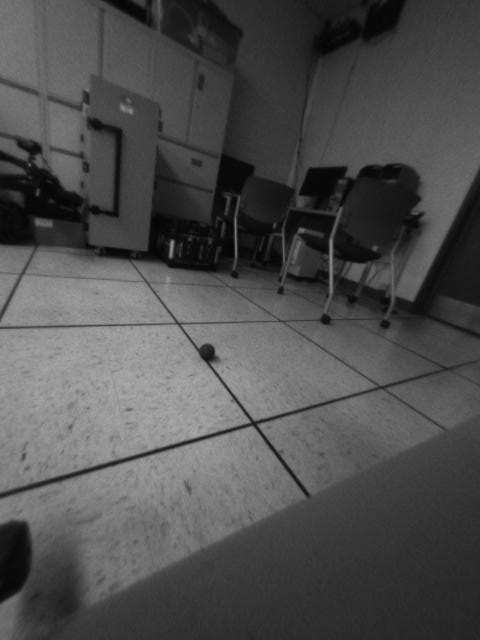dogtoy: (193, 335, 224, 366)
